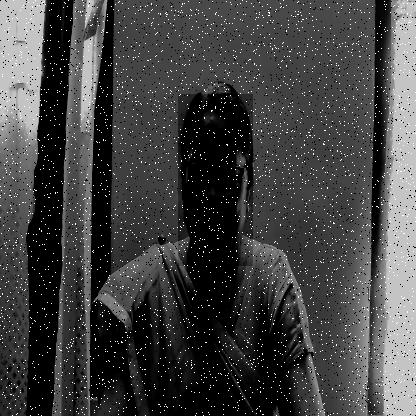Normal: (178, 94, 253, 266)
